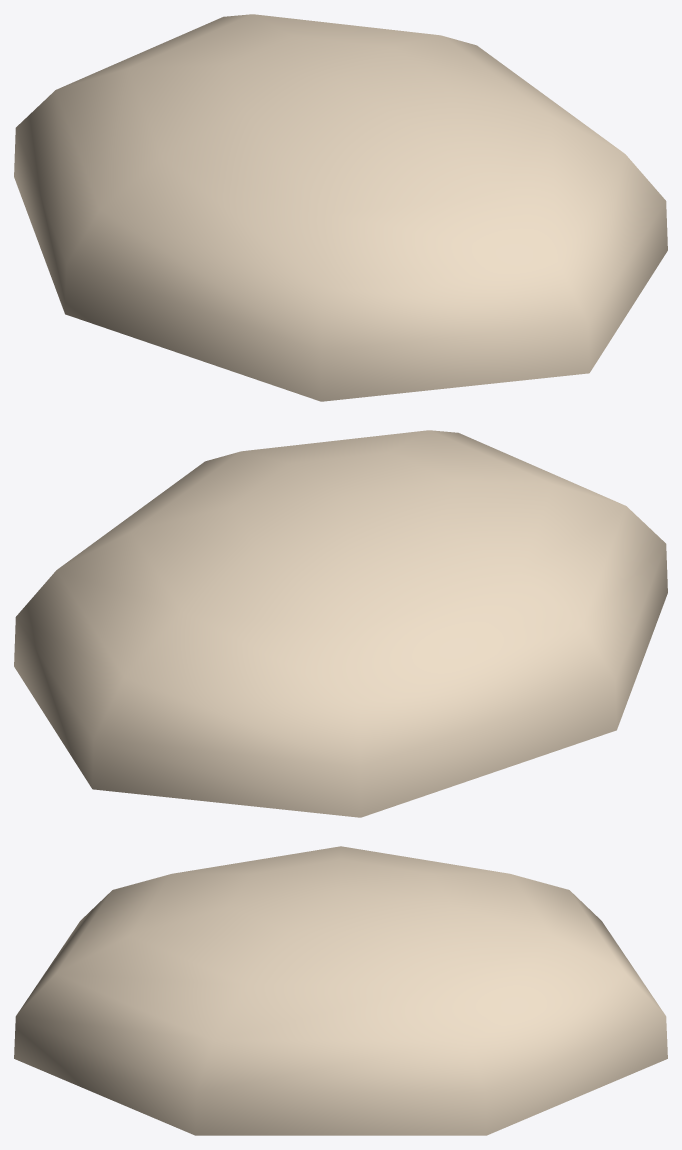
The model's file is wrack-shell.glb.
The picture shows the model from 3 angles, top to bottom: view 1: azimuth 30°, elevation 25°; view 2: azimuth 150°, elevation 25°; view 3: azimuth 270°, elevation 25°; orthographic projection. The views are drawn at different scales.
Parts seen in each view (by area): view 1: wrack-shell; view 2: wrack-shell; view 3: wrack-shell.
Part boxes in pixels (<box>): wrack-shell: <box>14,14,667,401</box>; wrack-shell: <box>14,430,667,817</box>; wrack-shell: <box>14,846,667,1135</box>.
Size of the model in its own units: 0.3661 by 0.1128 by 0.4694.
